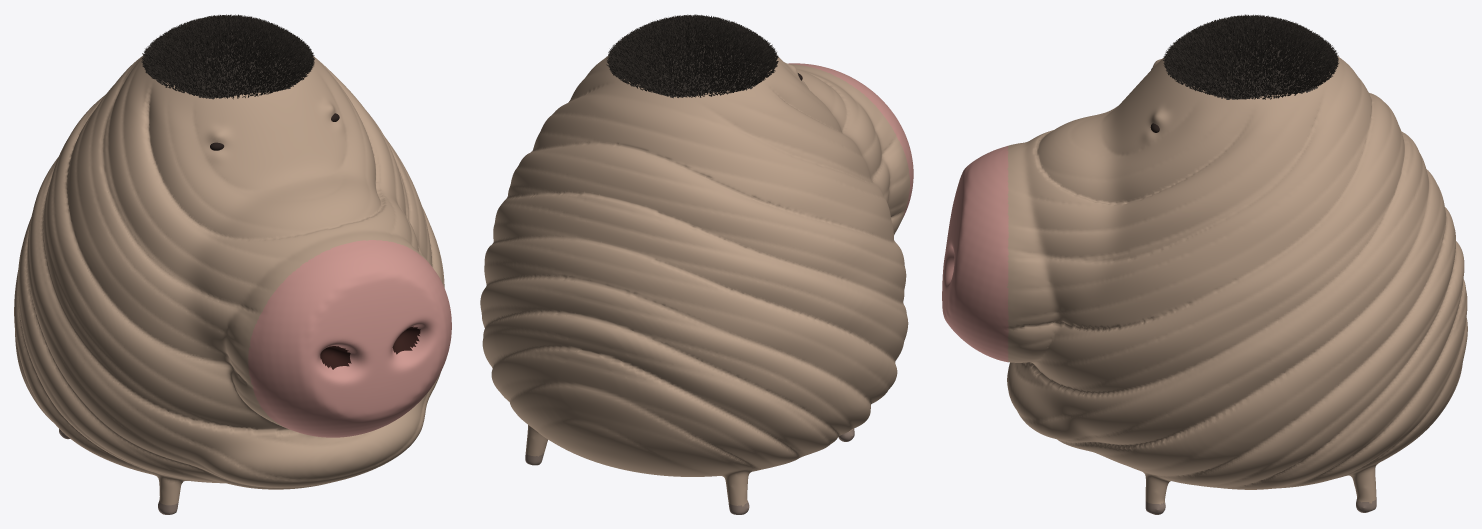
The model's file is pig.glb.
3 renders of one model, left to right at view 1: azimuth 30°, elevation 25°; view 2: azimuth 150°, elevation 25°; view 3: azimuth 270°, elevation 25°, orthographic. The views are drawn at different scales.
Parts seen in each view (by area): view 1: pig_body, hair; view 2: pig_body, hair; view 3: pig_body, hair.
Part boxes in pixels (left/top/right/bottom): pig_body: left=14, top=24, right=451, bottom=514; hair: left=141, top=14, right=315, bottom=99; pig_body: left=480, top=24, right=913, bottom=514; hair: left=606, top=14, right=778, bottom=97; pig_body: left=942, top=24, right=1467, bottom=514; hair: left=1163, top=14, right=1338, bottom=99.
Size of the model in its own units: 1 by 1.1 by 1.21.
